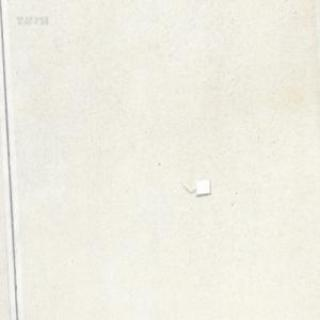LuggageTagtrack_idkeyframe: (178, 177, 210, 195)
